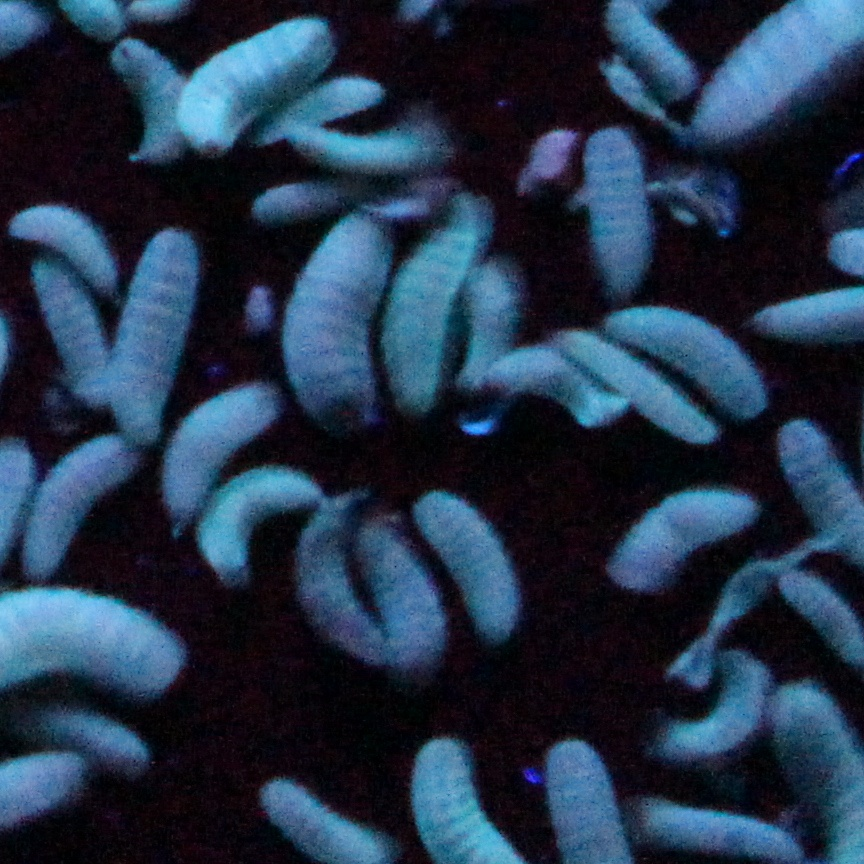larve: (173, 0, 338, 160), (283, 223, 390, 433), (383, 205, 490, 410), (120, 218, 205, 448), (280, 485, 393, 658), (595, 298, 755, 418), (160, 378, 270, 540), (565, 320, 723, 430), (28, 430, 143, 580), (608, 478, 753, 585), (400, 743, 530, 860), (198, 458, 320, 580), (418, 498, 520, 643), (30, 243, 113, 415), (540, 733, 643, 860), (578, 133, 665, 283), (373, 520, 448, 683), (480, 343, 615, 433), (280, 118, 430, 198), (260, 765, 400, 850), (658, 783, 808, 860), (670, 643, 763, 763), (115, 33, 193, 175), (263, 63, 385, 138), (13, 205, 120, 280)
